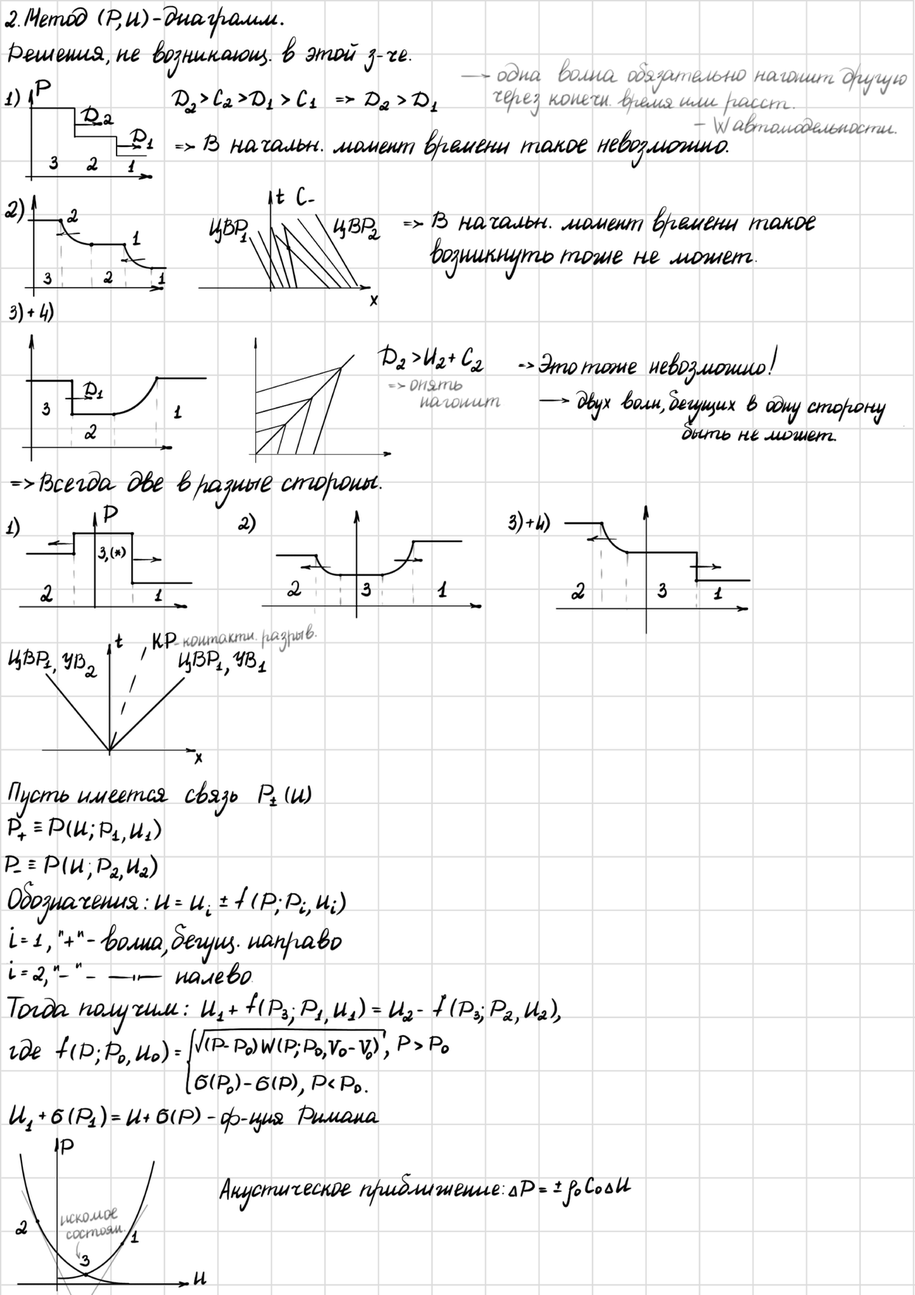formula: (184, 1030, 450, 1097), (201, 996, 566, 1027), (9, 1101, 202, 1130), (157, 889, 347, 915), (172, 84, 319, 114), (4, 852, 158, 880), (5, 816, 164, 843), (56, 1038, 171, 1066), (510, 1176, 634, 1201), (336, 85, 439, 114), (7, 958, 84, 987), (5, 925, 84, 951), (256, 781, 314, 808)
picture: (6, 631, 268, 765), (14, 1135, 209, 1292), (197, 173, 389, 311), (266, 505, 483, 624), (556, 504, 752, 630), (24, 330, 209, 461), (22, 505, 199, 618), (250, 331, 392, 468), (22, 76, 159, 192), (25, 195, 171, 299)
text: (431, 212, 817, 269), (578, 389, 888, 443), (203, 133, 730, 157), (5, 41, 413, 67), (39, 469, 383, 498), (220, 1176, 501, 1201), (540, 347, 766, 378), (102, 928, 343, 953), (25, 7, 283, 30), (9, 783, 238, 808), (5, 994, 190, 1021), (9, 886, 141, 913), (220, 1108, 379, 1129), (381, 344, 483, 371), (177, 966, 255, 987), (7, 1038, 43, 1062)
